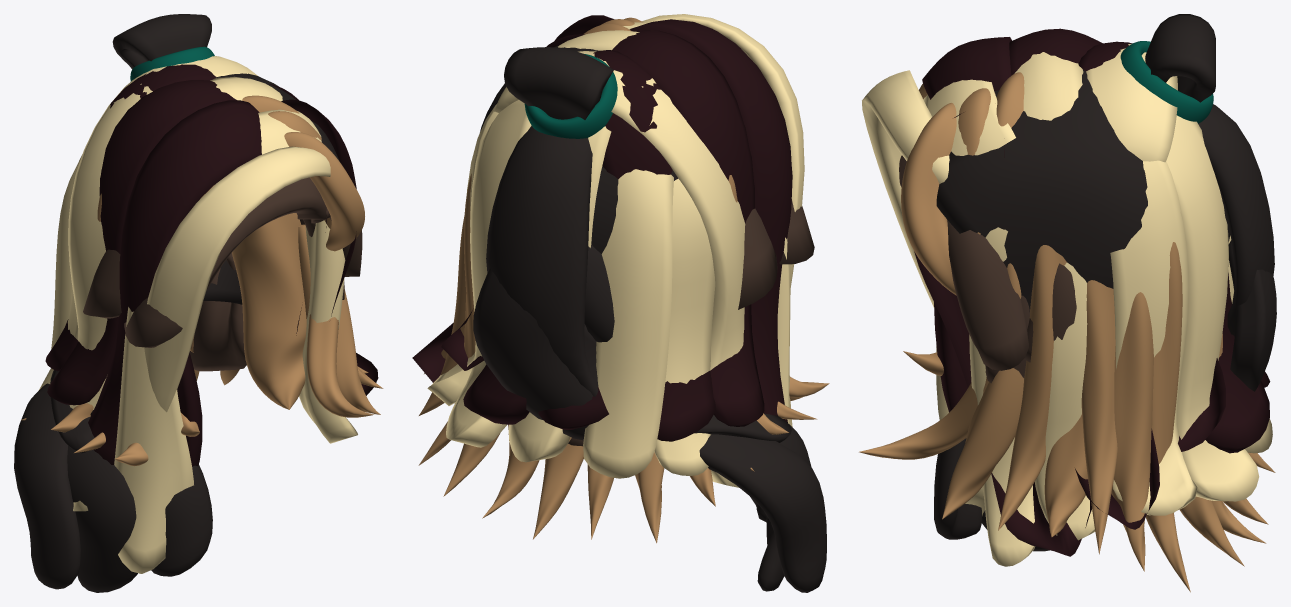
The model's file is female.glb.
3 views of the same model, side by side, from view 1: azimuth 30°, elevation 25°; view 2: azimuth 150°, elevation 25°; view 3: azimuth 270°, elevation 25° (orthographic). The views are drawn at different scales.
Visible parts, largest first — view 1: Head2_HairBand01, KW_HairBand03, KW_HairBand01, Head1_HairStrand.021, Head2_HairBand02, GE_HairBand06, KW_HairBand05, GE_HairBand04, CH_HairBand01, KW_HairBand04, GE_HairBand05, Head1_HairStrand.005 (+17 smaller); view 2: KW_HairBand10, GE_HairBand02, Head2_HairBand02, Head2_HairBand01, KW_HairBand05, GE_HairBand03, GE_HairBand06, KW_HairBand11, Head2_HairBand06, KW_HairBand08, GE_HairBand01, KW_HairBand03 (+22 smaller); view 3: Gabriela Ekaireb_Hair, KW_HairBand08, KW_HairBand07, Head1_HairStrand.015, GE_HairBand02, CH_HairBand02, Head1_HairStrand.007, Head1_HairStrand.006, Head1_HairStrand.000, KW_HairBand03, KW_HairBand05, Head1_HairStrand.013 (+24 smaller).
Part boxes in pixels (left/top/right/bottom): Head2_HairBand01: left=88, top=100, right=261, bottom=464; KW_HairBand03: left=144, top=146, right=330, bottom=412; KW_HairBand01: left=114, top=109, right=321, bottom=573; Head1_HairStrand.021: left=232, top=213, right=306, bottom=409; Head2_HairBand02: left=47, top=80, right=236, bottom=405; GE_HairBand06: left=14, top=383, right=80, bottom=589; KW_HairBand05: left=68, top=56, right=258, bottom=409; GE_HairBand04: left=67, top=446, right=137, bottom=592; CH_HairBand01: left=124, top=177, right=326, bottom=347; KW_HairBand04: left=299, top=220, right=357, bottom=443; GE_HairBand05: left=90, top=410, right=212, bottom=576; Head1_HairStrand.005: left=242, top=95, right=374, bottom=417; KW_HairBand10: left=583, top=169, right=673, bottom=478; GE_HairBand02: left=486, top=125, right=598, bottom=396; Head2_HairBand02: left=612, top=30, right=764, bottom=426; Head2_HairBand01: left=629, top=19, right=792, bottom=422; KW_HairBand05: left=494, top=51, right=745, bottom=487; GE_HairBand03: left=473, top=268, right=791, bottom=442; GE_HairBand06: left=699, top=434, right=826, bottom=592; KW_HairBand11: left=654, top=178, right=715, bottom=475; Head2_HairBand06: left=593, top=50, right=715, bottom=441; KW_HairBand08: left=446, top=100, right=531, bottom=447; GE_HairBand01: left=504, top=47, right=613, bottom=119; KW_HairBand03: left=642, top=14, right=804, bottom=287; Gabriela Ekaireb_Hair: left=936, top=69, right=1230, bottom=311; KW_HairBand08: left=1166, top=115, right=1259, bottom=501; KW_HairBand07: left=1110, top=160, right=1197, bottom=515; Head1_HairStrand.015: left=1111, top=292, right=1153, bottom=571; GE_HairBand02: left=1198, top=104, right=1274, bottom=336; CH_HairBand02: left=947, top=219, right=1028, bottom=370; Head1_HairStrand.007: left=1081, top=280, right=1117, bottom=554; Head1_HairStrand.006: left=998, top=245, right=1066, bottom=530; Head1_HairStrand.000: left=901, top=103, right=956, bottom=295; KW_HairBand03: left=862, top=70, right=949, bottom=307; KW_HairBand05: left=1086, top=44, right=1177, bottom=162; Head1_HairStrand.013: left=942, top=368, right=1023, bottom=519.
Size of the model in its own units: 80.59 by 111 by 70.32.
